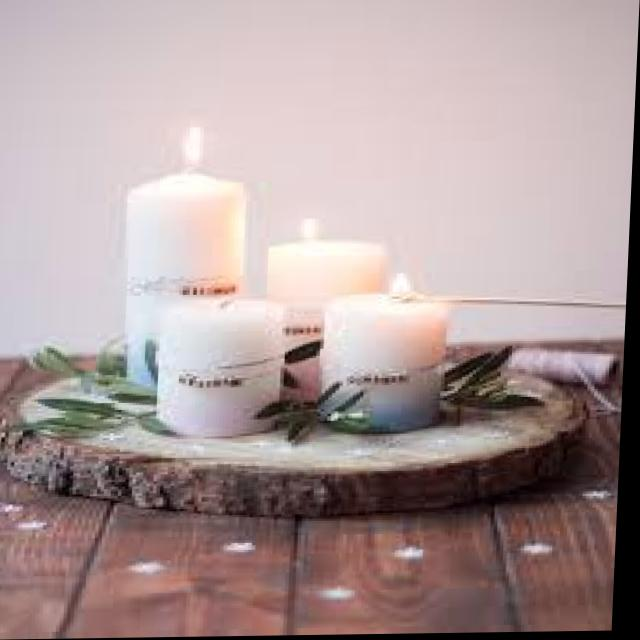fire: (172, 121, 205, 172), (377, 267, 420, 300), (292, 215, 325, 246)
